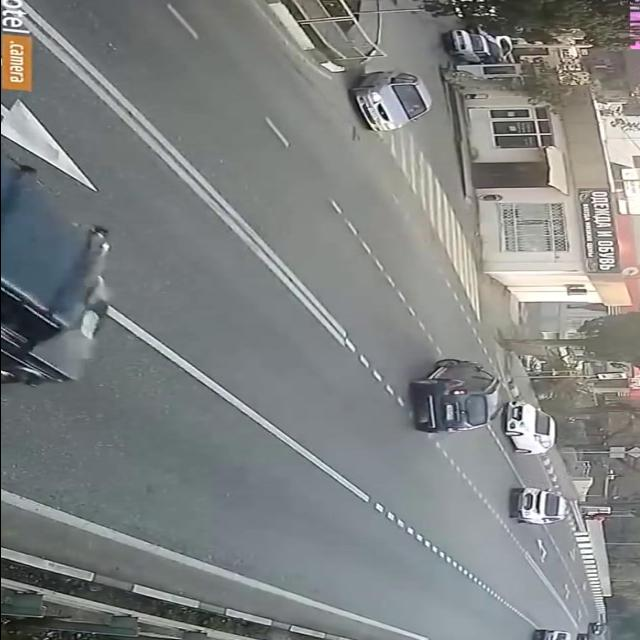non_accident: (397, 355, 563, 461)
